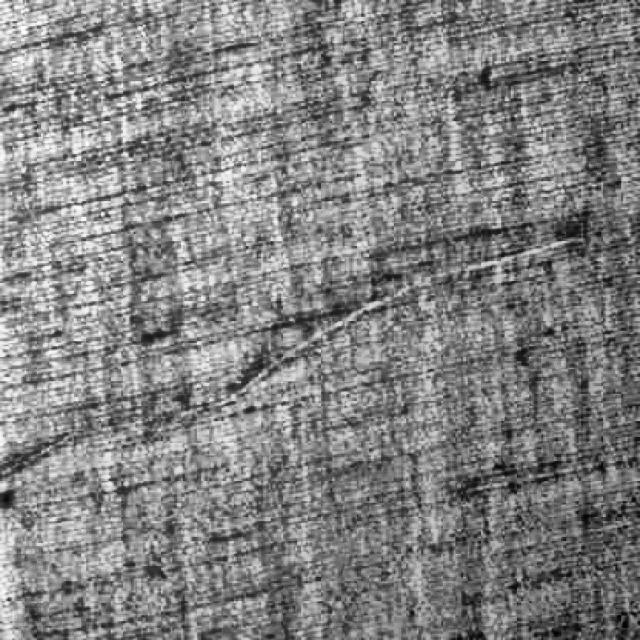objects: (201, 218, 593, 421)
